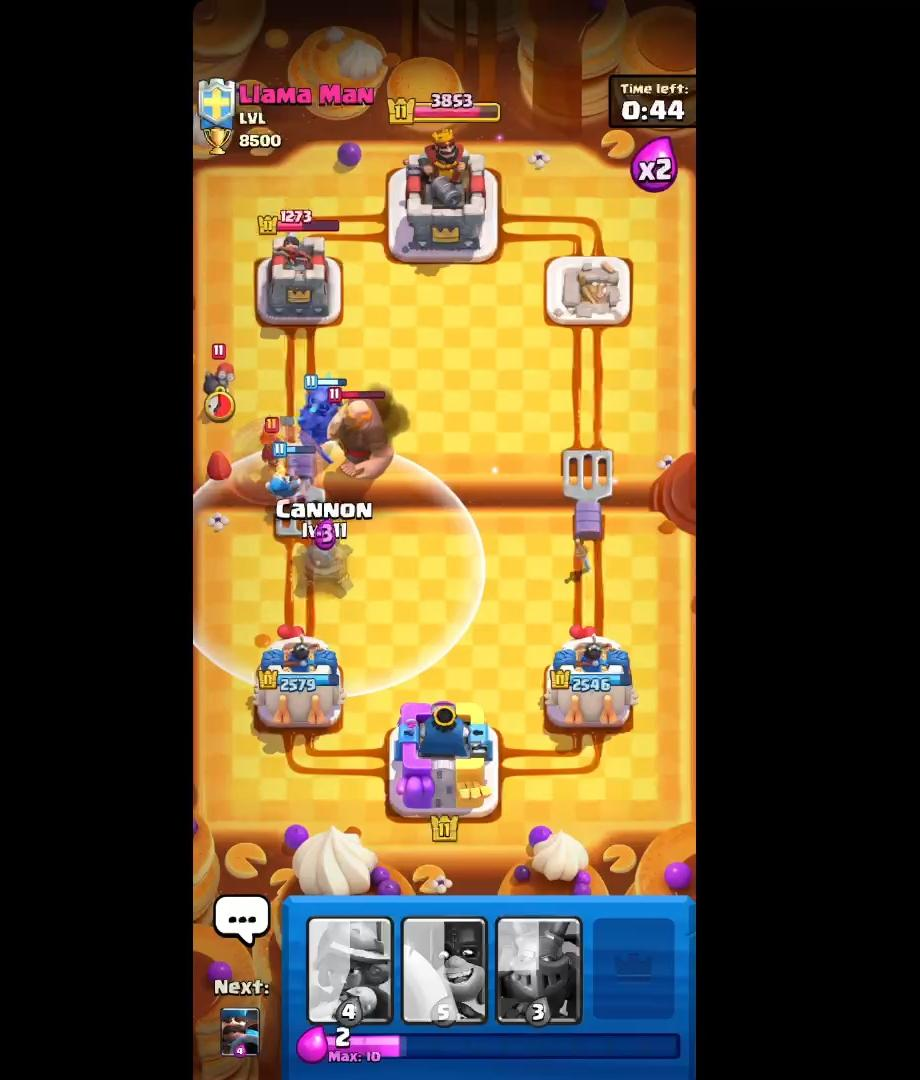Bomber: (201, 338, 246, 418)
Giant: (324, 384, 397, 484)
